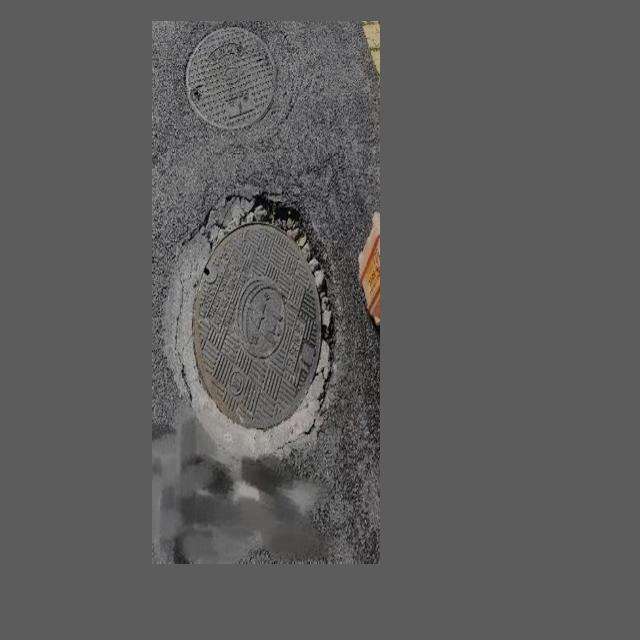circle: (166, 194, 334, 469)
good: (182, 25, 278, 131)
